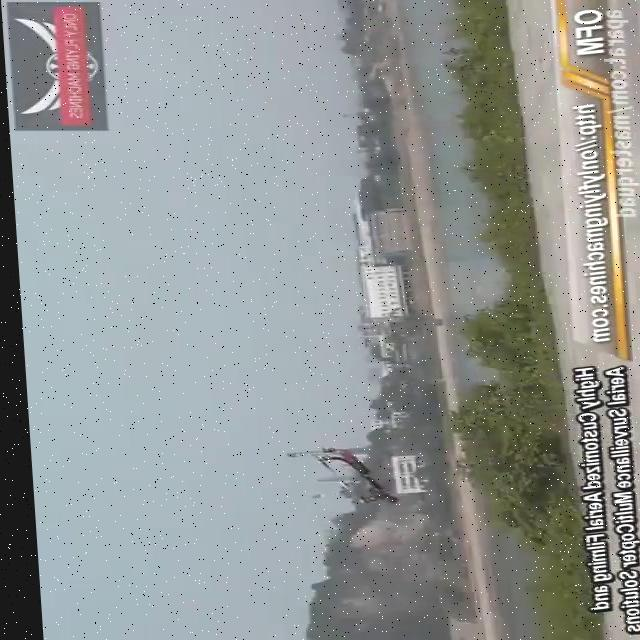drone: (303, 446, 395, 506)
